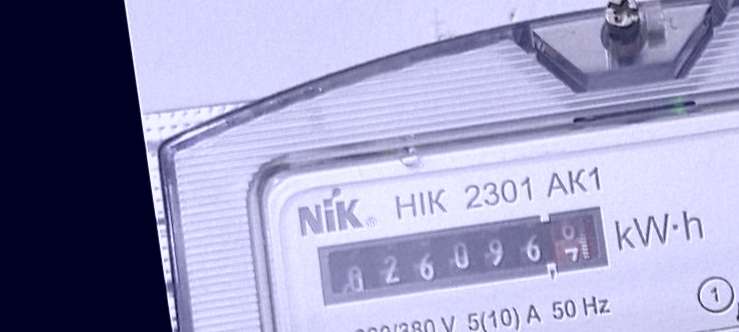0: (448, 236, 473, 273), (342, 259, 366, 293)
2: (377, 250, 403, 287)
6: (414, 247, 438, 284), (520, 228, 543, 264), (556, 213, 578, 242)
7: (561, 242, 582, 265)
9: (484, 233, 507, 268)
screen: (304, 194, 618, 318)
